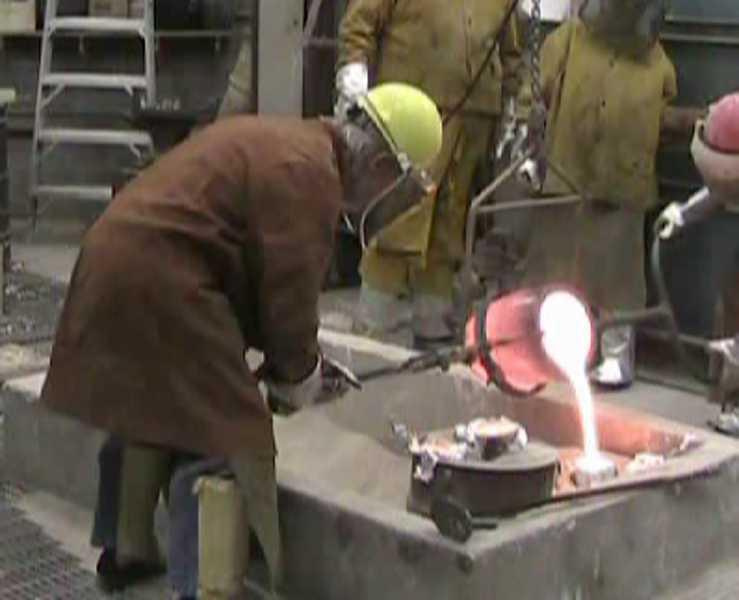person: (42, 80, 441, 598)
